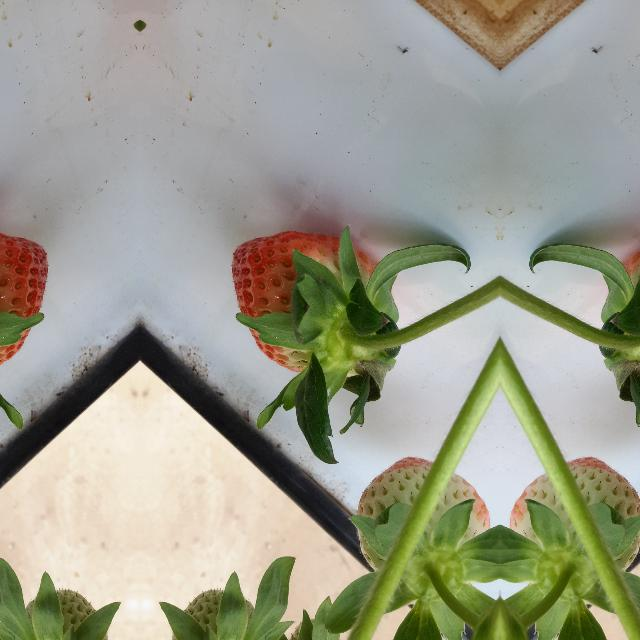Health_100: (230, 228, 378, 372), (0, 227, 49, 372)
Health_50: (358, 448, 494, 584), (506, 448, 640, 583)
